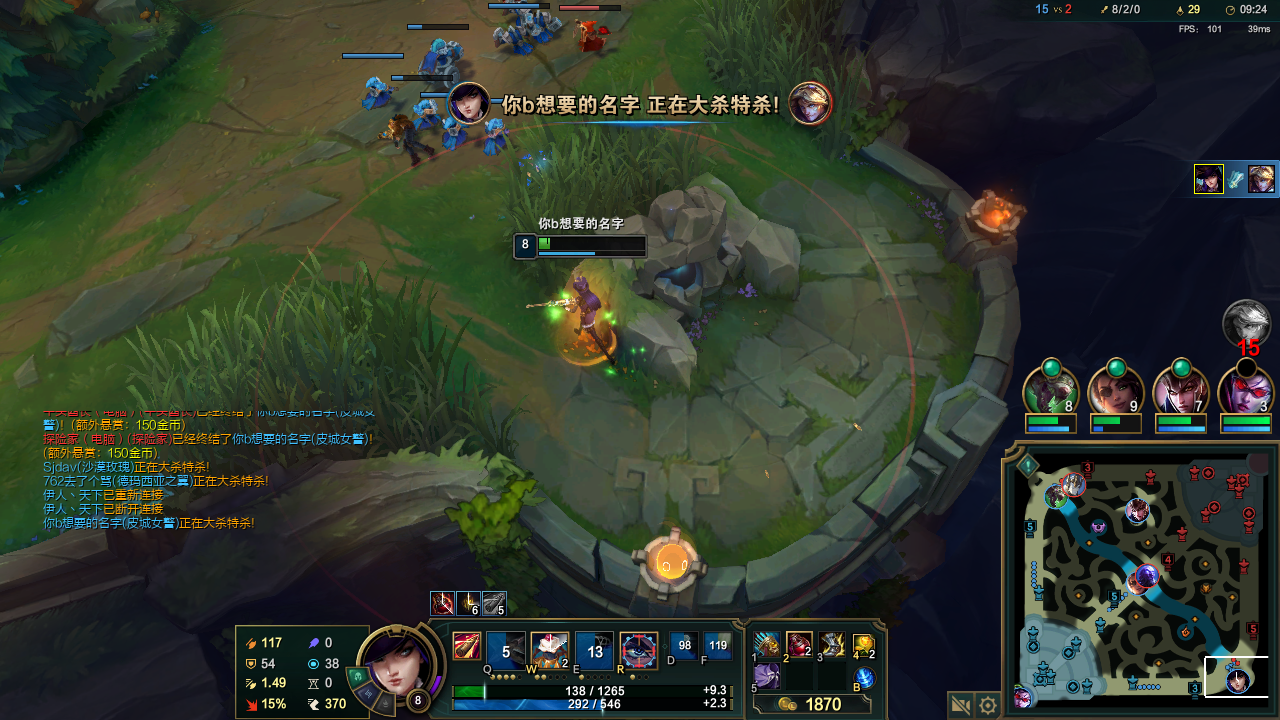DFXB: (572, 24, 607, 53)
WFXB: (416, 38, 465, 88), (356, 79, 395, 106), (493, 23, 529, 50), (413, 94, 439, 127), (481, 121, 508, 150), (439, 115, 463, 139), (530, 12, 551, 39)
